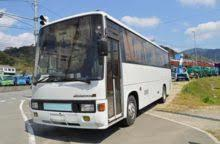bus: (31, 10, 170, 132)
